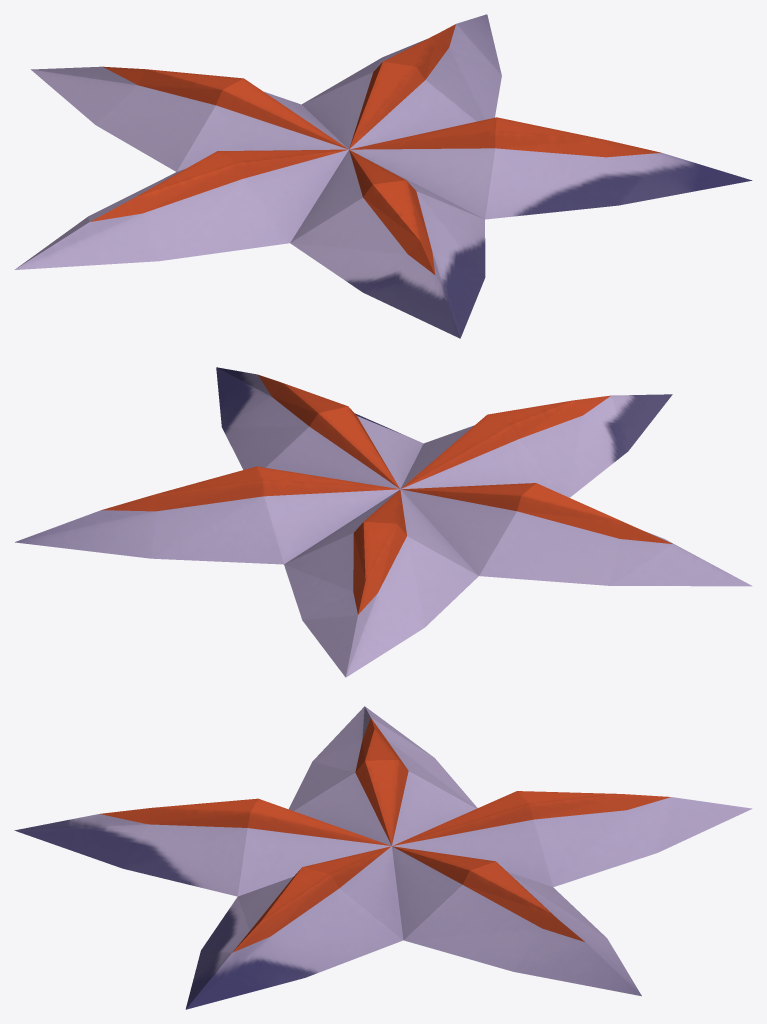
File: Starfish_01.FBX
3 renders of one model, top to bottom at view 1: azimuth 30°, elevation 25°; view 2: azimuth 150°, elevation 25°; view 3: azimuth 270°, elevation 25°, orthographic. The views are drawn at different scales.
Parts seen in each view (by area): view 1: Starfish_01; view 2: Starfish_01; view 3: Starfish_01.
Part boxes in pixels (x1,y1,x2,y2): Starfish_01: (14,14,752,338); Starfish_01: (15,367,752,677); Starfish_01: (14,706,752,1009).
Bounding box in the file's own units: 4.02 × 0.4045 × 4.14.
